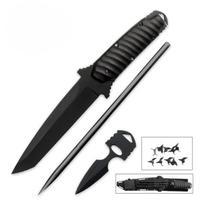knife: (10, 7, 194, 193)
